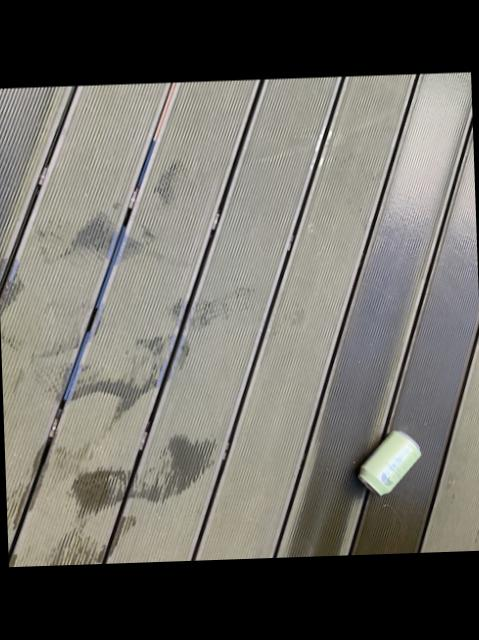metal: (358, 432, 420, 496)
